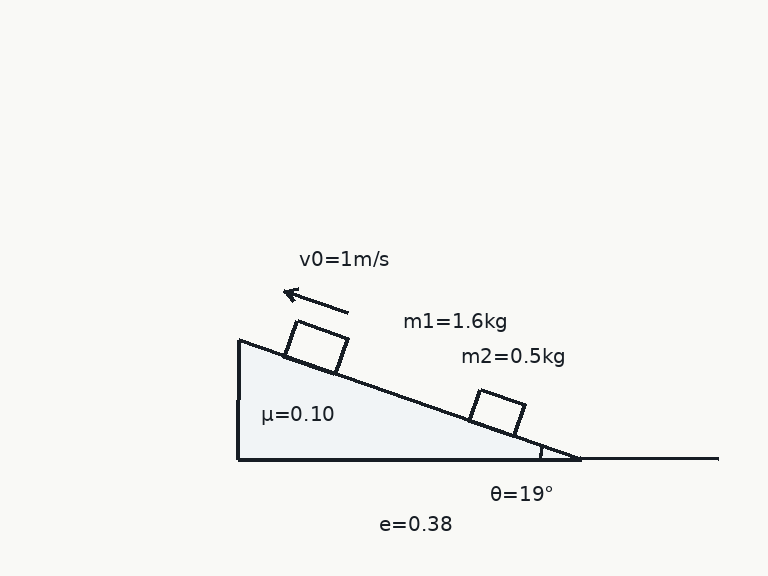block: (282, 318, 349, 376), (467, 387, 526, 438)
ramp: (236, 339, 582, 461)
